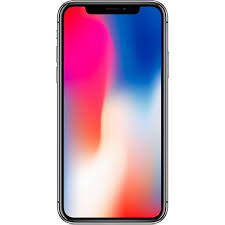iphone: (54, 2, 169, 224)
iphone10: (53, 1, 168, 222)
